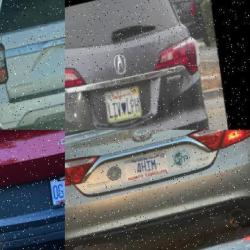LicensePlate: (101, 77, 147, 128), (124, 151, 171, 183), (50, 176, 65, 209)
